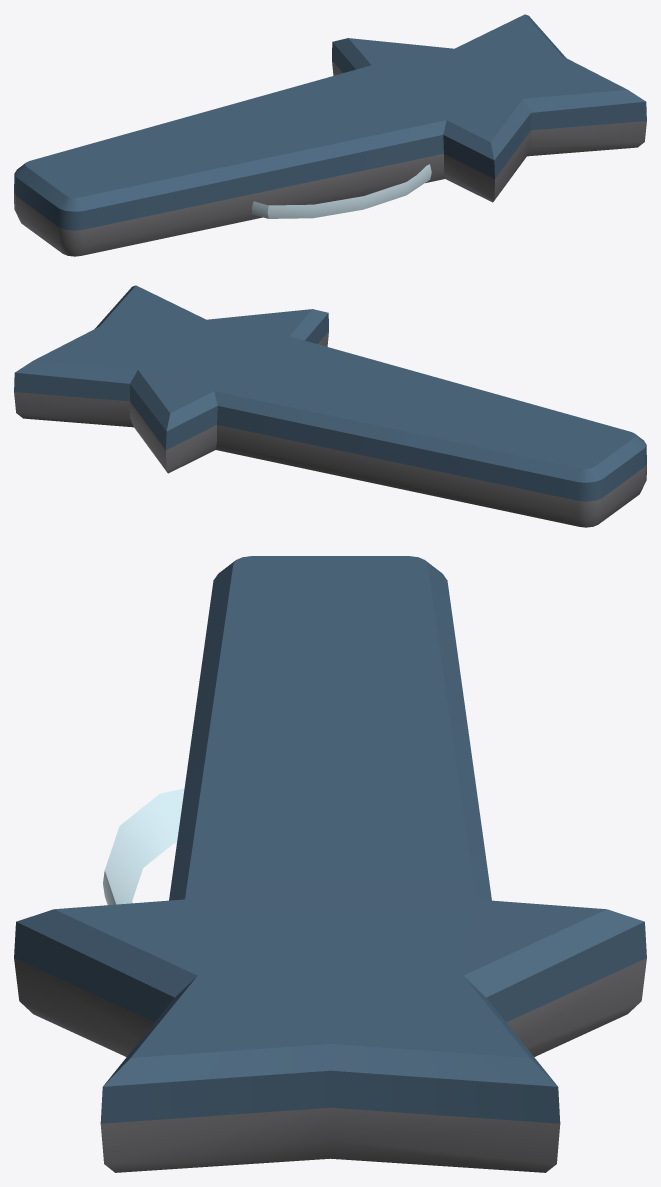
The model's file is Guitar_case .fbx.
3 views of the same model, one above another, from view 1: azimuth 30°, elevation 25°; view 2: azimuth 150°, elevation 25°; view 3: azimuth 270°, elevation 25° (orthographic). The views are drawn at different scales.
Parts seen in each view (by area): view 1: Guitar_Case.001, Guitar_Case.002, Guitar_Case; view 2: Guitar_Case.001, Guitar_Case.002; view 3: Guitar_Case.001, Guitar_Case.002, Guitar_Case.
Part boxes in pixels (x1,y1,x2,y2): Guitar_Case.001: [14, 14, 646, 230]; Guitar_Case.002: [14, 60, 646, 256]; Guitar_Case: [252, 164, 431, 218]; Guitar_Case.001: [14, 285, 646, 501]; Guitar_Case.002: [14, 331, 646, 527]; Guitar_Case.001: [14, 556, 646, 1123]; Guitar_Case.002: [14, 958, 646, 1172]; Guitar_Case: [103, 788, 184, 904].
Size of the model in its own units: 67.43 by 7.27 by 34.62.
